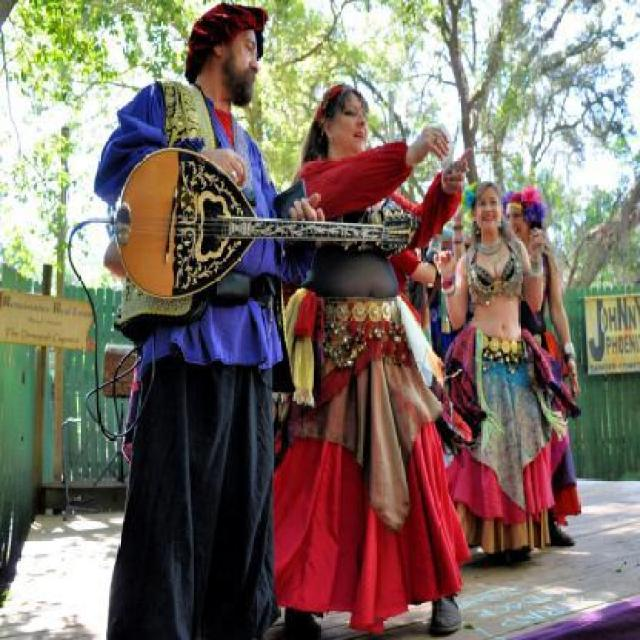Person: (93, 0, 581, 638)
